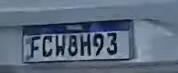Placa_mercosul_carro: (21, 19, 135, 63)
